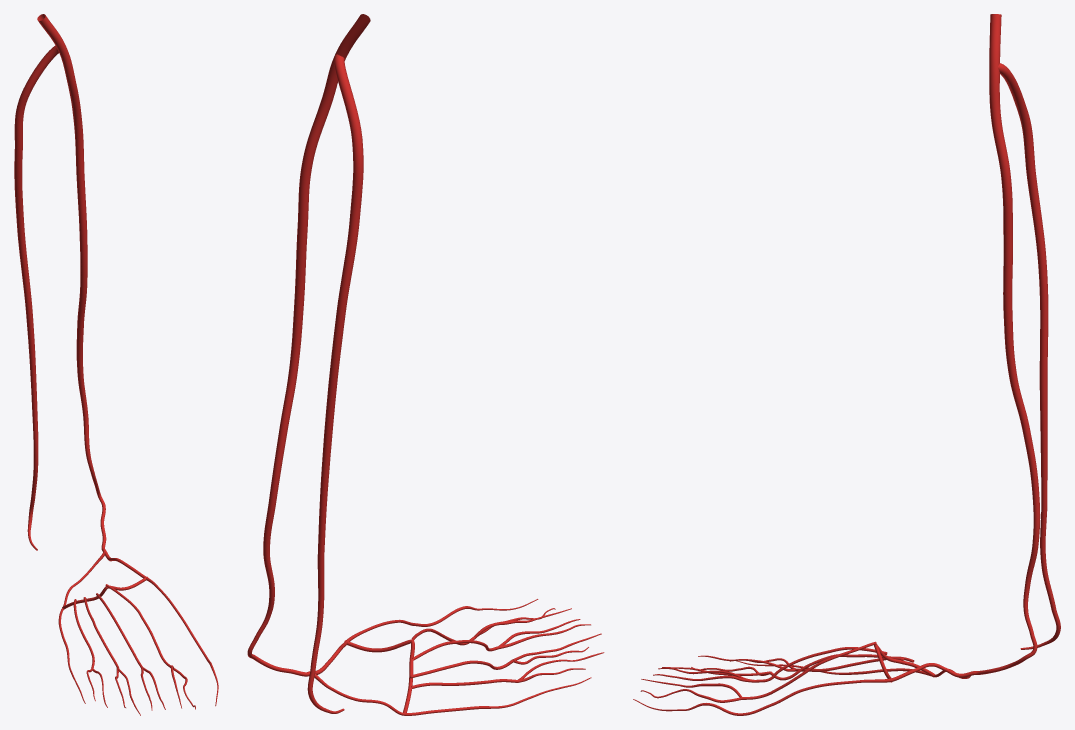
Rendered from circulatorio-posterior-tibial-veins-r.glb.
3 renders of one model, left to right at view 1: azimuth 30°, elevation 25°; view 2: azimuth 150°, elevation 25°; view 3: azimuth 270°, elevation 25°, orthographic. The views are drawn at different scales.
Parts seen in each view (by area): view 1: Posterior tibial veins.r, Fibular veins.r, Plantar digital veins.r, Plantar metatarsal veins.r, Medial plantar veins.r; view 2: Posterior tibial veins.r, Fibular veins.r, Plantar digital veins.r, Plantar metatarsal veins.r, Plantar venous arch.r; view 3: Posterior tibial veins.r, Fibular veins.r, Plantar digital veins.r, Plantar metatarsal veins.r, Medial plantar veins.r.
Part boxes in pixels (x1,y1,x2,y2): Posterior tibial veins.r: (37, 14, 106, 550); Fibular veins.r: (14, 45, 58, 550); Plantar digital veins.r: (58, 608, 218, 715); Plantar metatarsal veins.r: (73, 584, 170, 668); Medial plantar veins.r: (102, 549, 195, 639); Posterior tibial veins.r: (247, 14, 370, 676); Fibular veins.r: (307, 54, 363, 713); Plantar digital veins.r: (404, 599, 604, 715); Plantar metatarsal veins.r: (409, 628, 518, 688); Plantar venous arch.r: (344, 639, 414, 713); Posterior tibial veins.r: (974, 14, 1040, 674); Fibular veins.r: (998, 63, 1060, 649); Plantar digital veins.r: (633, 655, 931, 715); Plantar metatarsal veins.r: (742, 641, 914, 699); Medial plantar veins.r: (771, 663, 973, 705).
Bounding box in the file's own units: 0.0954 × 0.3721 × 0.2093.
